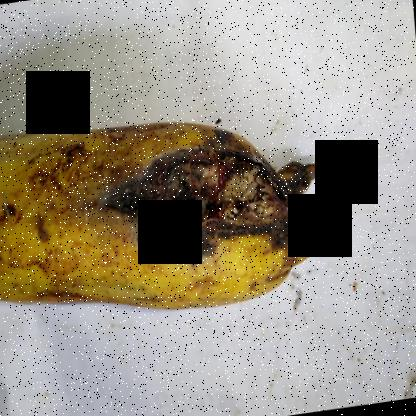ripe: (0, 110, 113, 325)
rotten: (80, 114, 326, 283)
